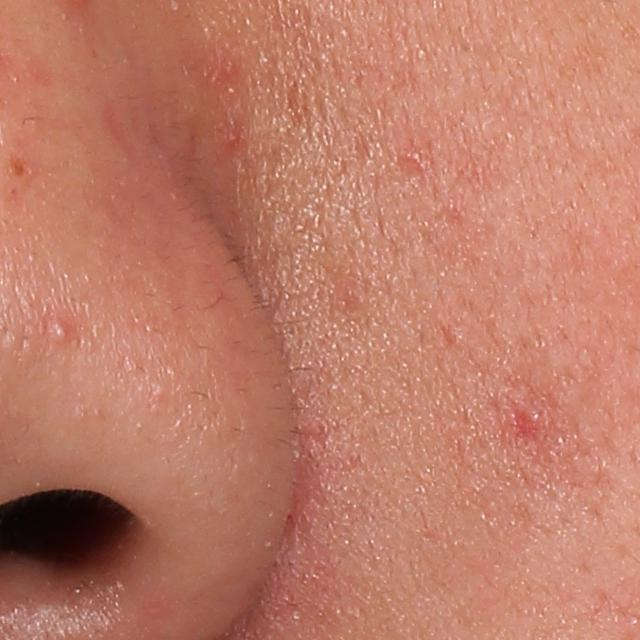comedo: (45, 319, 74, 345)
